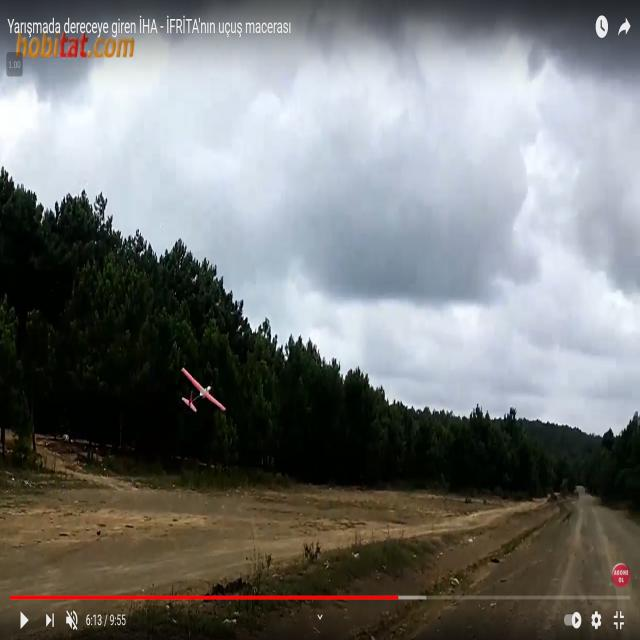iha: (174, 360, 221, 409)
